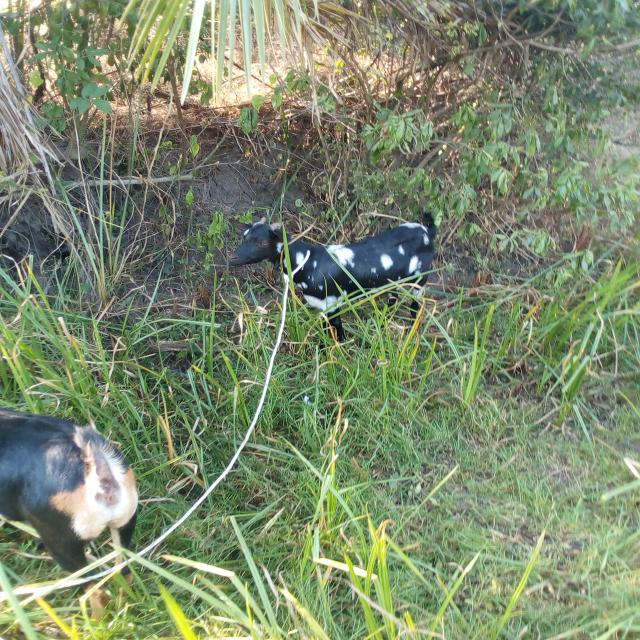goat: (197, 193, 497, 375)
